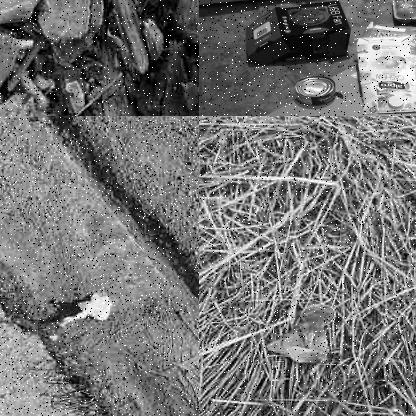cardboard: (199, 63, 415, 115), (239, 0, 356, 64), (364, 22, 415, 63), (392, 0, 415, 21)
metal: (287, 72, 338, 106)
plastic: (354, 36, 415, 114), (276, 304, 334, 362), (58, 287, 118, 327)
